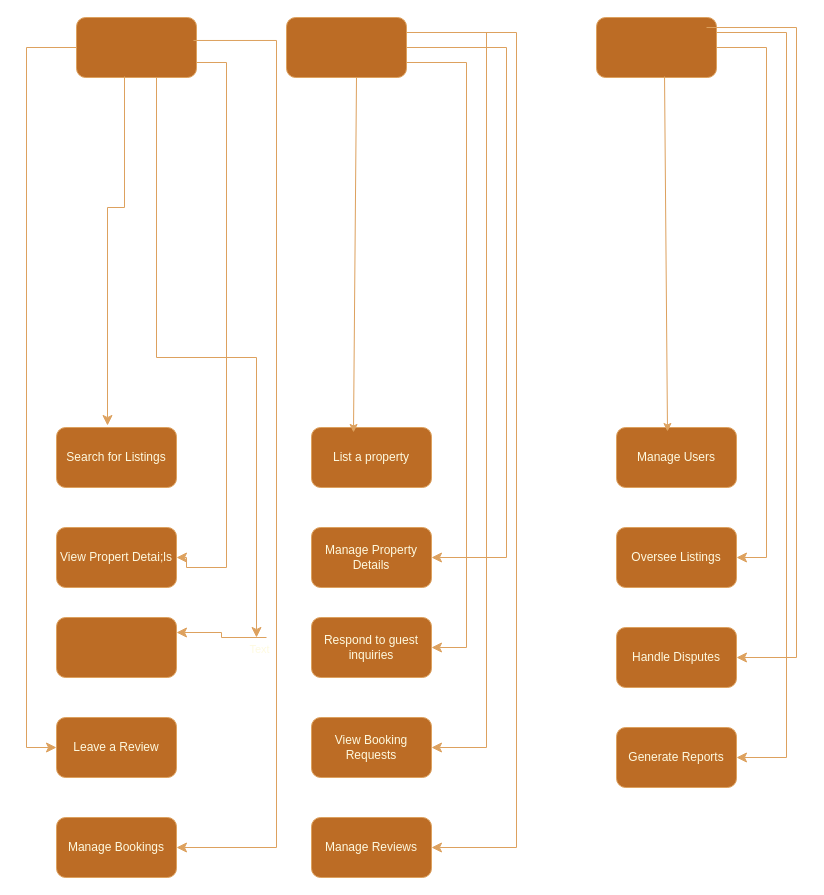
Some shapes in this 824 by 895 pixel diagram are drawn without their labels. The shapes that lost their labels are listed below. From the top down, each one's box as (x1, y1, x2, y2) in pixels, then its label:
(76, 16, 196, 78): Guest
(286, 16, 406, 78): Host
(596, 16, 716, 78): Admin
(56, 616, 176, 678): Make a booking
